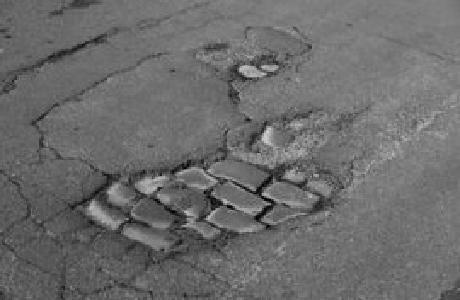pothole: (70, 153, 344, 258), (241, 106, 336, 162), (232, 54, 281, 80)
